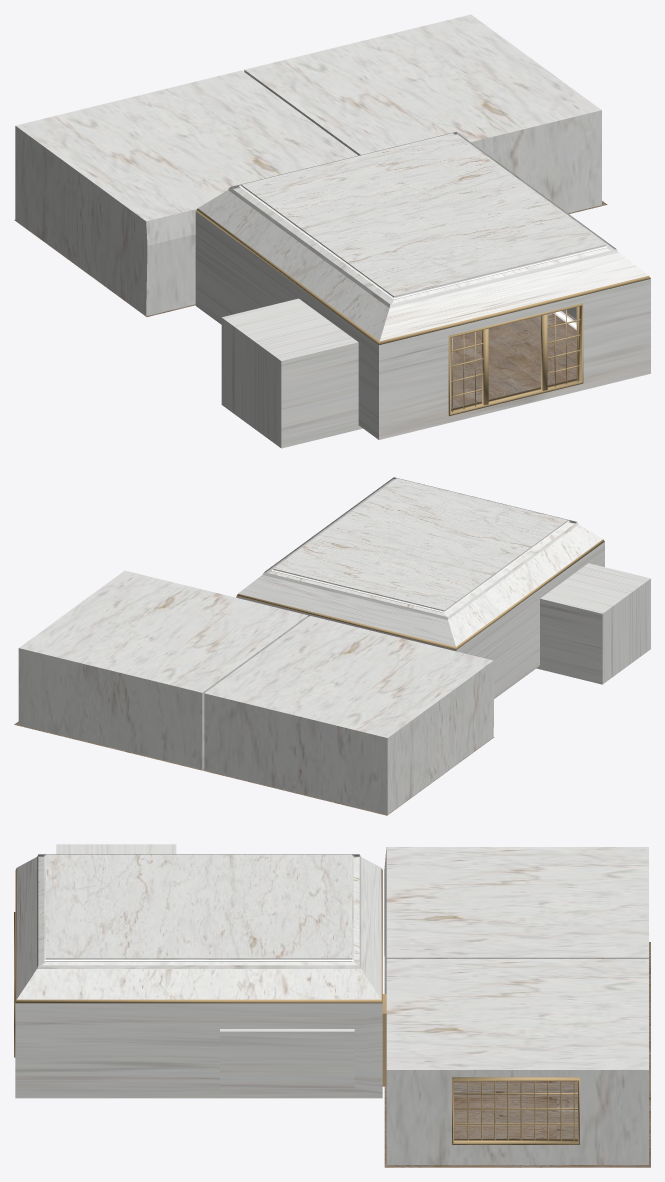
Rendered from room.glb.
3 renders of one model, top to bottom at view 1: azimuth 30°, elevation 25°; view 2: azimuth 150°, elevation 25°; view 3: azimuth 270°, elevation 25°, orthographic. The views are drawn at different scales.
Visible parts, largest first — view 1: ceiling, wall3, wall1, wall2, floor2, window; view 2: wall3, ceiling, wall2, wall1, floor3; view 3: ceiling, wall2, wall1, wall3, floor3, window2.
Part boxes in pixels (x1,y1,x2,y2): ceiling: [196, 132, 650, 344]; wall3: [15, 70, 357, 316]; wall1: [195, 211, 650, 448]; wall2: [244, 14, 601, 213]; floor2: [451, 310, 576, 408]; window: [448, 303, 583, 415]; wall3: [204, 616, 494, 814]; ceiling: [236, 477, 604, 649]; wall2: [18, 570, 308, 769]; wall1: [236, 541, 650, 698]; floor3: [14, 721, 494, 815]; ceiling: [15, 854, 382, 1003]; wall2: [386, 959, 648, 1164]; wall1: [15, 844, 382, 1098]; wall3: [384, 847, 648, 993]; floor3: [384, 942, 650, 1167]; window2: [452, 1077, 579, 1144].
Bounding box in the file's own units: 10.81 × 2.73 × 12.14.
Materials: 14 (7 with a texture image).
